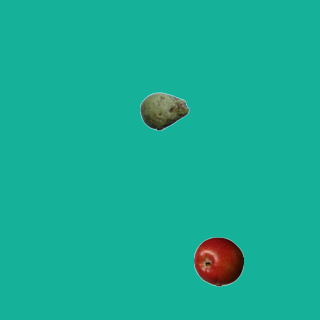Apple Braeburn: (193, 236, 243, 286)
Pear Stone: (139, 86, 189, 136)
